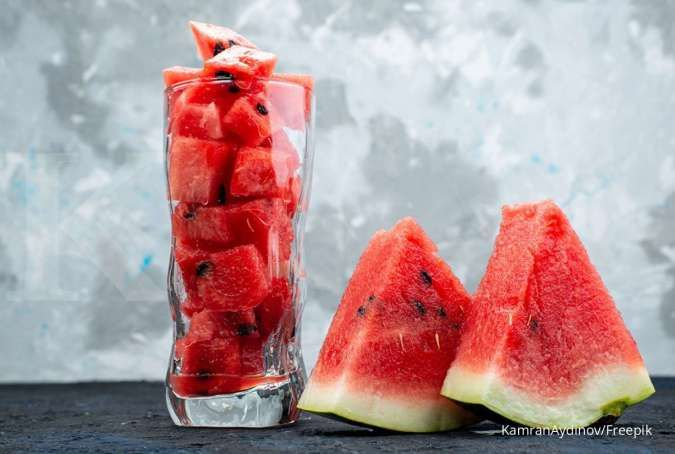Semangka: (452, 178, 664, 414), (313, 221, 491, 434)
